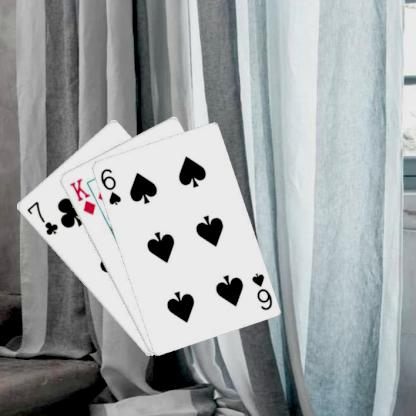6S: (249, 270, 273, 312), (98, 166, 122, 206)
7C: (24, 198, 60, 236)
KD: (67, 176, 96, 216)
